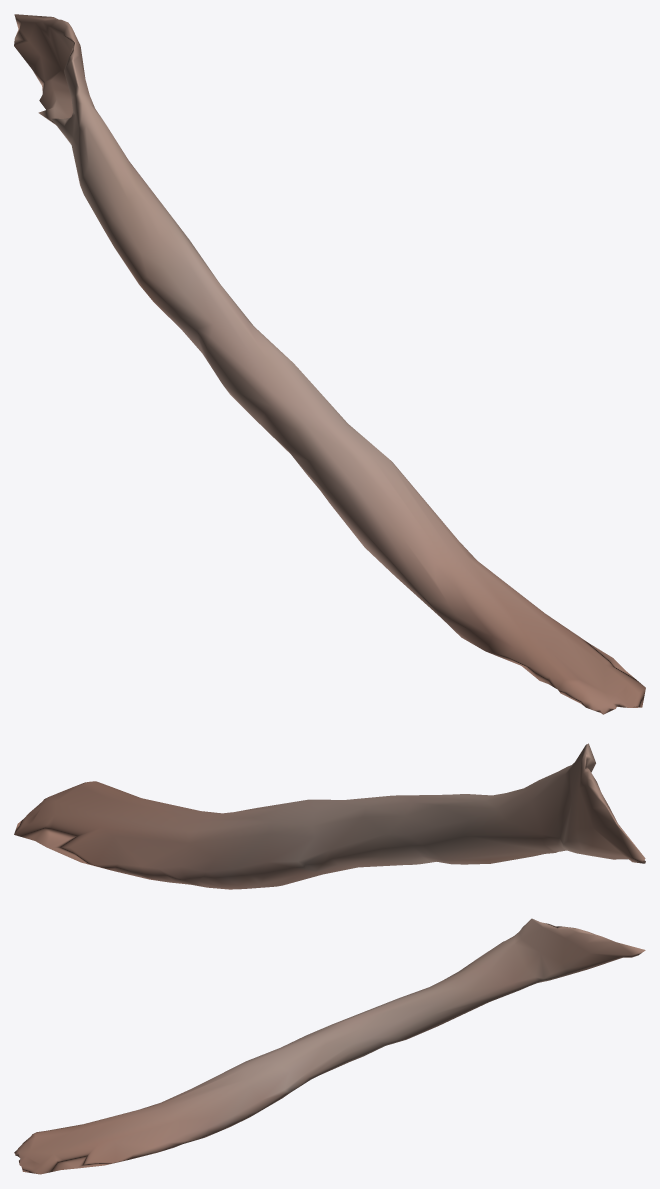
Rendered from ligament.glb.
The picture shows the model from 3 angles, top to bottom: view 1: azimuth 30°, elevation 25°; view 2: azimuth 210°, elevation 25°; view 3: azimuth 270°, elevation 25°; orthographic projection. The views are drawn at different scales.
Parts seen in each view (by area): view 1: Ligament; view 2: Ligament; view 3: Ligament.
Boxes of the visible parts, x1=… form: Ligament: x1=14, y1=14, x2=645, y2=714; Ligament: x1=14, y1=743, x2=645, y2=889; Ligament: x1=14, y1=918, x2=645, y2=1174.
Size of the model in its own units: 0.1126 by 0.2183 by 0.5842.
